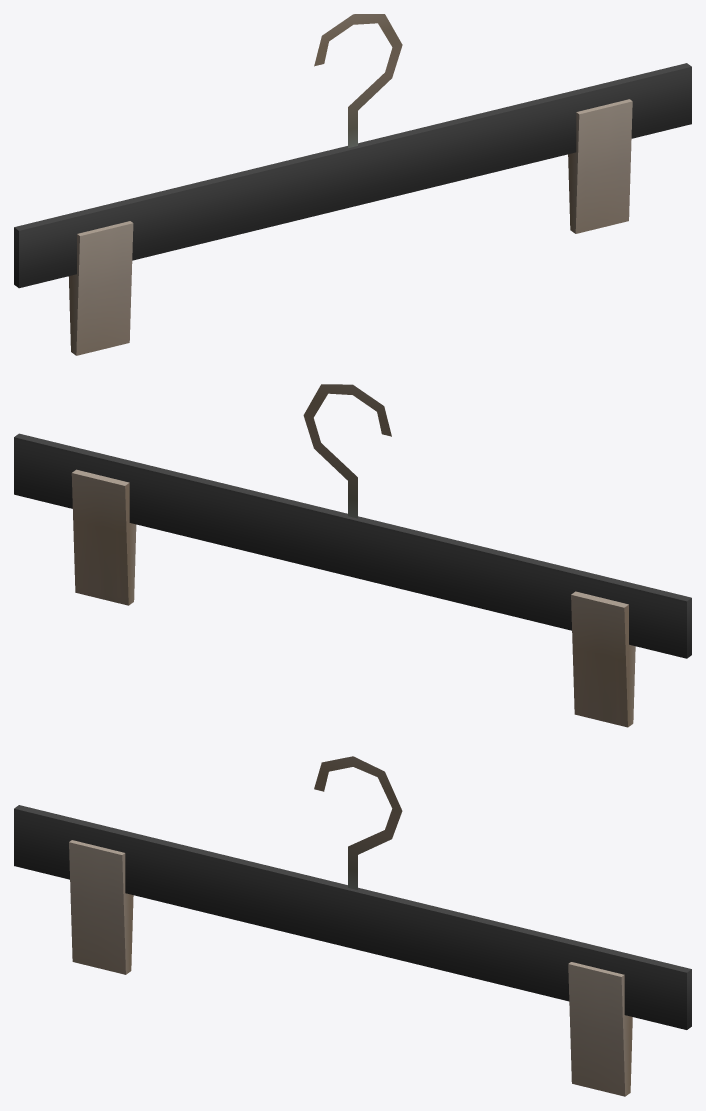
The model's file is Hanger_02.fbx.
3 renders of one model, top to bottom at view 1: azimuth 30°, elevation 25°; view 2: azimuth 150°, elevation 25°; view 3: azimuth 330°, elevation 25°, orthographic.
Parts seen in each view (by area): view 1: Hanger_02; view 2: Hanger_02; view 3: Hanger_02.
Boxes of the visible parts, x1,y1,x2,y2 form: Hanger_02: [14, 14, 691, 355]; Hanger_02: [14, 384, 691, 727]; Hanger_02: [14, 756, 691, 1096].
Size of the model in its own units: 0.1552 by 0.06 by 0.00506.
